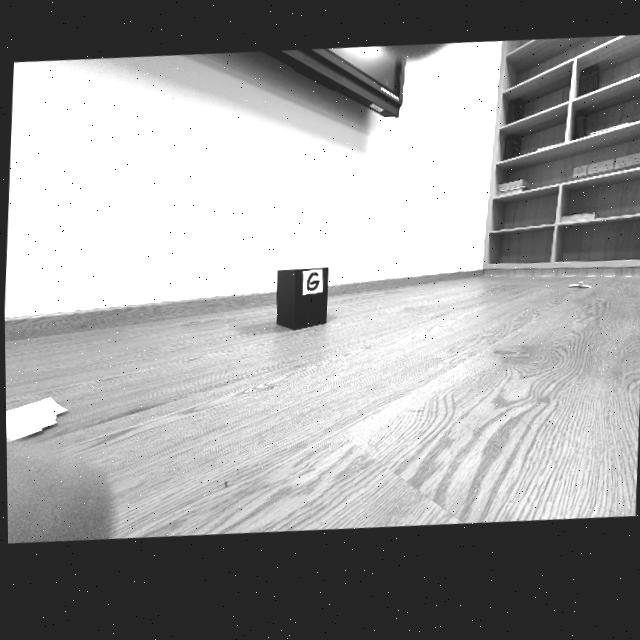G: (305, 277, 320, 298)
